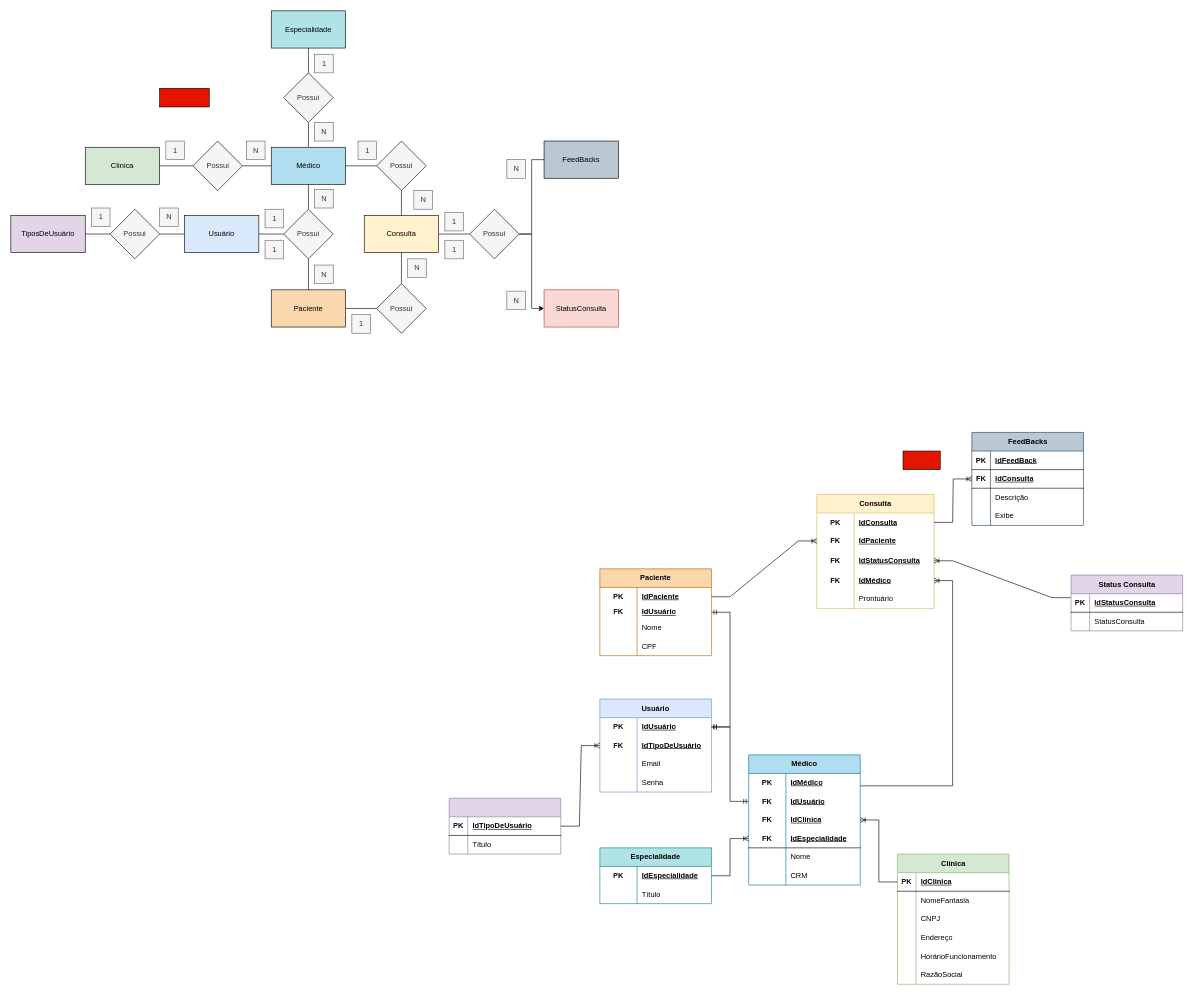
This 1194x995 diagram has some shape labels left out. The shapes that lost their labels are listed below. From the top down, each one's box as (x1, y1, x2, y2) in pixels, then its label:
(159, 88, 209, 107): Conceitual
(902, 450, 940, 470): Lógico
(449, 798, 561, 854): Tipos De Usuário
